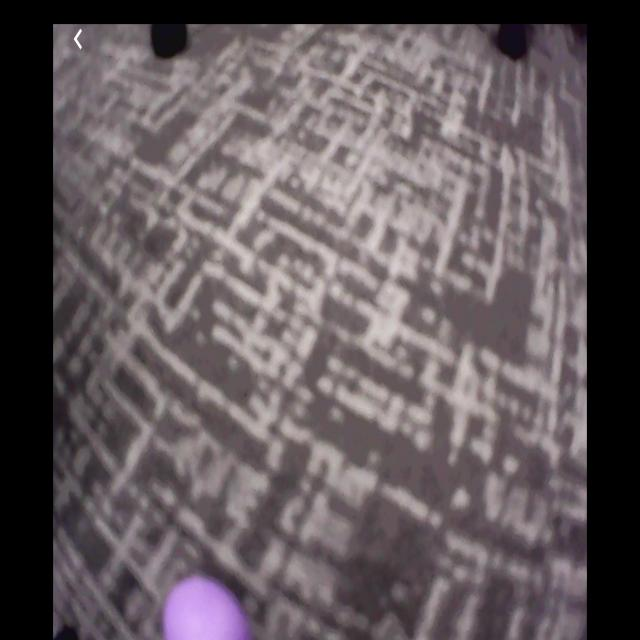ball: (160, 576, 254, 640)
